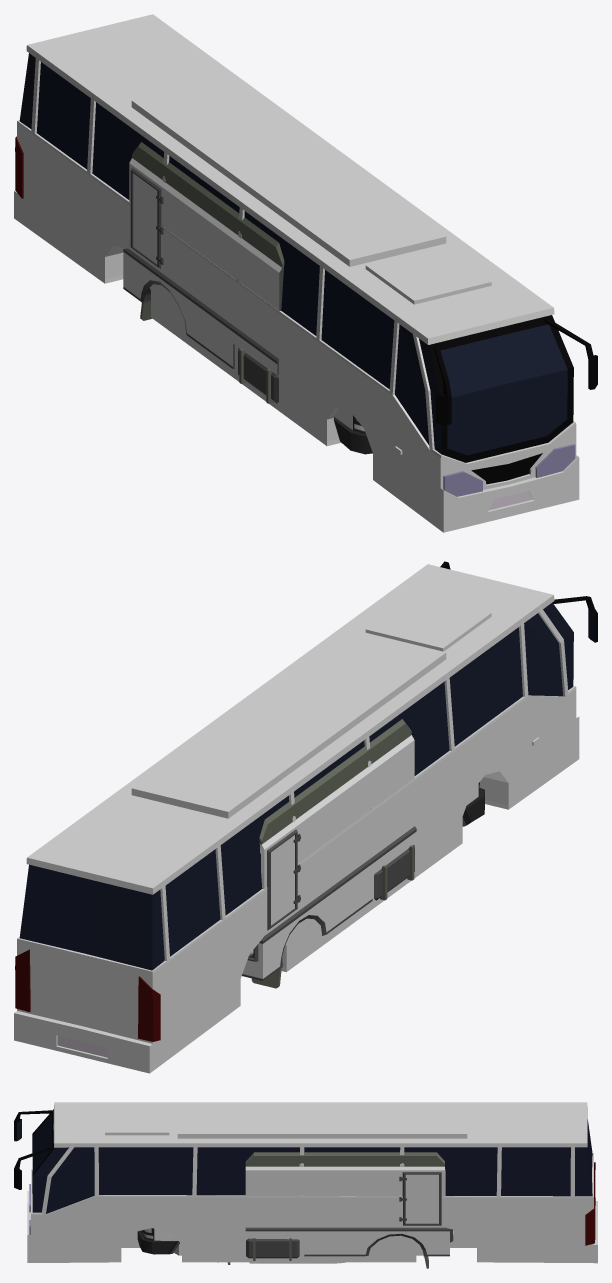
Rendered from npc-vehicles.glb.
3 renders of one model, top to bottom at view 1: azimuth 30°, elevation 25°; view 2: azimuth 150°, elevation 25°; view 3: azimuth 270°, elevation 25°, orthographic. The views are drawn at different scales.
Visible parts, largest first — view 1: bus, truck; view 2: bus, truck; view 3: bus, truck.
Boxes of the visible parts, box(x1,y1,x2,y2) form: bus: box(14, 14, 597, 532); truck: box(123, 142, 372, 454); bus: box(14, 561, 597, 1073); truck: box(242, 719, 484, 988); bus: box(14, 1102, 597, 1263); truck: box(137, 1152, 453, 1268).
Bounding box in the file's own units: 2.55 × 3.1 × 12.
